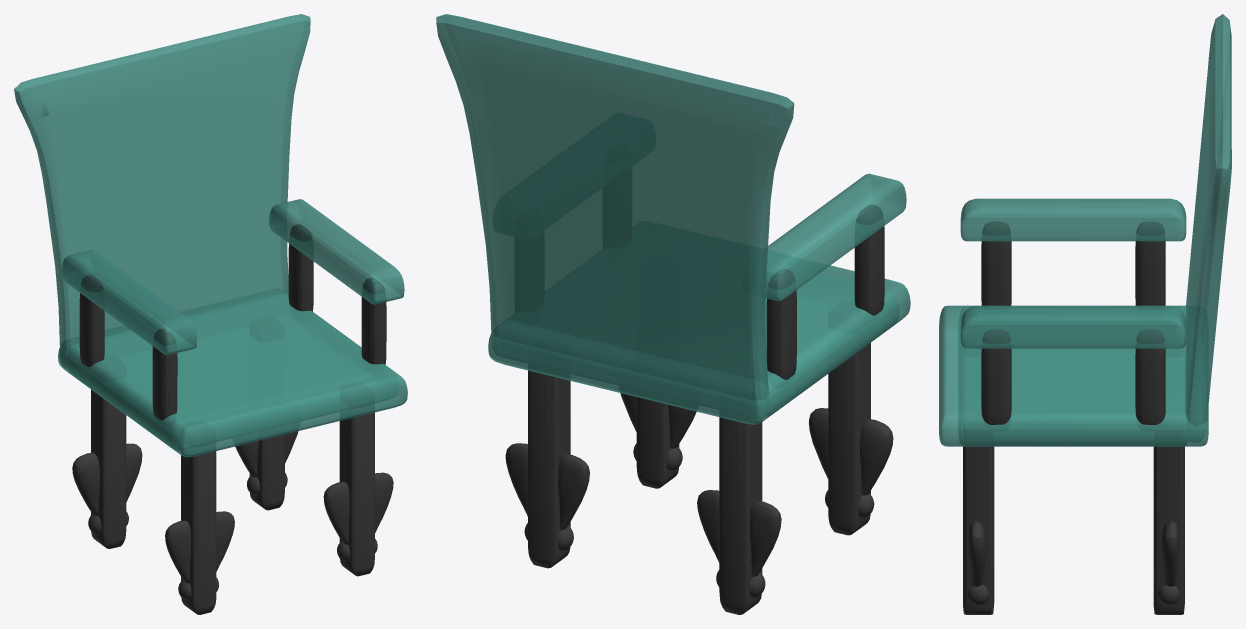
The model's file is chair11.fbx.
The picture shows the model from 3 angles, left to right: view 1: azimuth 30°, elevation 25°; view 2: azimuth 150°, elevation 25°; view 3: azimuth 270°, elevation 25°; orthographic projection. The views are drawn at different scales.
Visible parts, largest first — view 1: Chair11; view 2: Chair11; view 3: Chair11.
Part boxes in pixels (x1,y1,x2,y2): Chair11: (14,14,407,614); Chair11: (436,14,910,614); Chair11: (939,14,1231,614).
Size of the model in its own units: 71.37 by 105 by 57.75.
